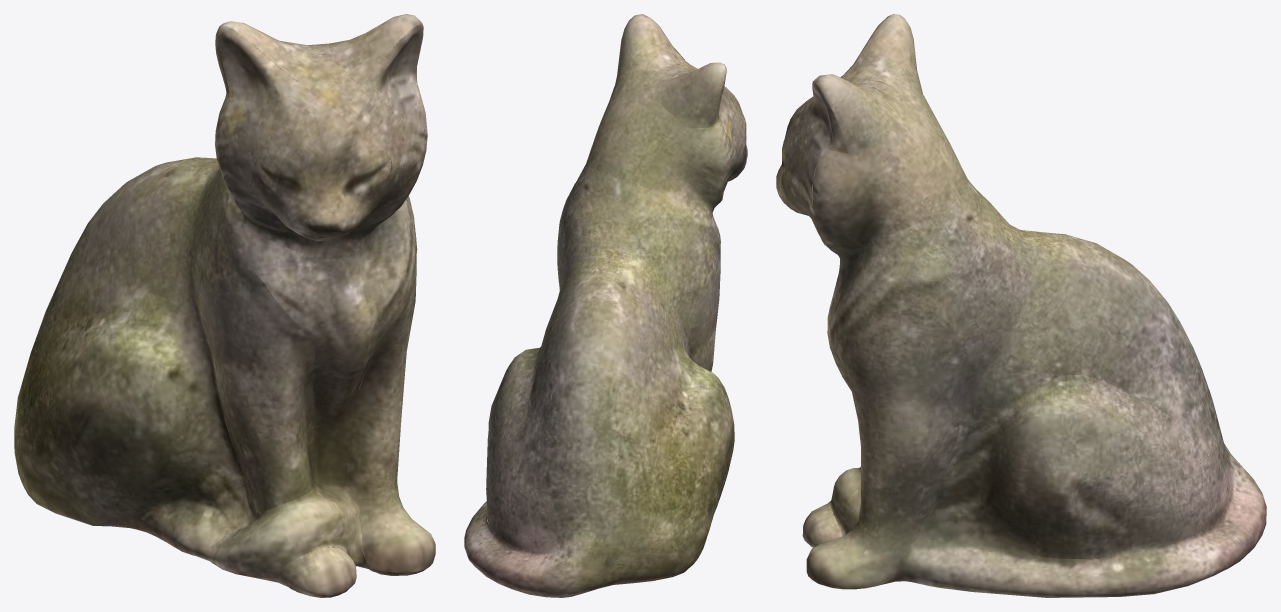
The model's file is ph_concrete_cat_statue.glb.
3 views of the same model, side by side, from view 1: azimuth 30°, elevation 25°; view 2: azimuth 150°, elevation 25°; view 3: azimuth 270°, elevation 25° (orthographic). The views are drawn at different scales.
Parts seen in each view (by area): view 1: concrete_cat_statue; view 2: concrete_cat_statue; view 3: concrete_cat_statue.
Boxes of the visible parts, x1,y1,x2,y2 form: concrete_cat_statue: (14, 14, 435, 597); concrete_cat_statue: (464, 14, 747, 597); concrete_cat_statue: (776, 14, 1266, 597).
Bounding box in the file's own units: 0.1529 × 0.2831 × 0.25.
Materials: 1 (1 with a texture image).
